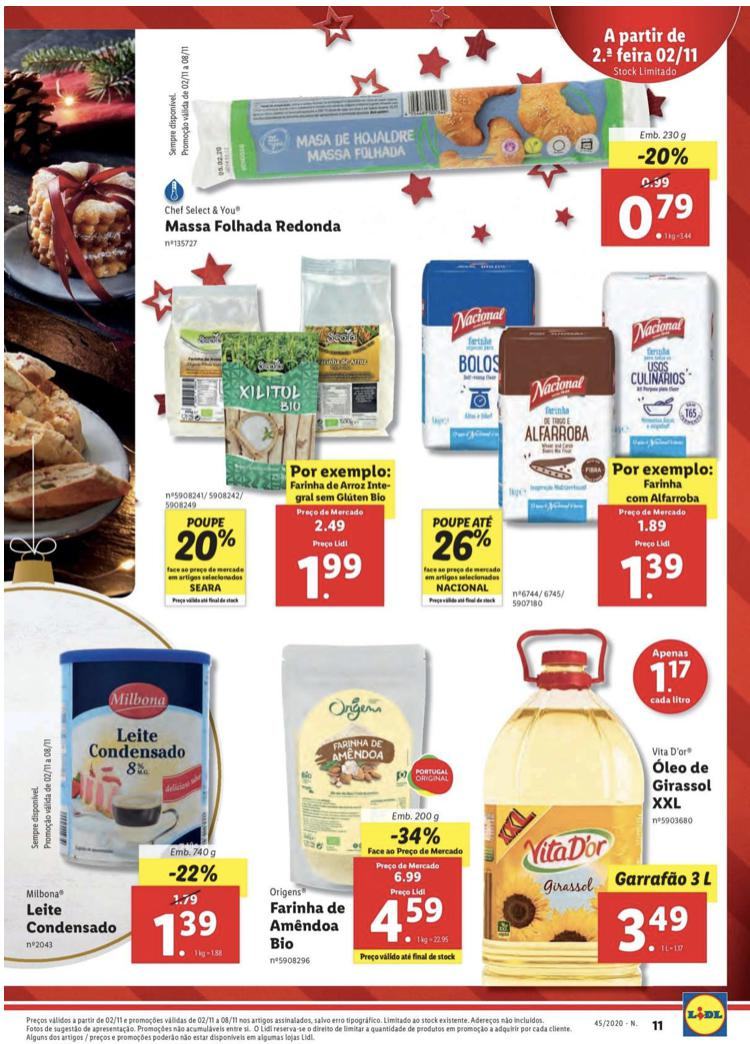name: (264, 900, 351, 952), (165, 217, 347, 241), (650, 756, 716, 813), (20, 900, 121, 935)
price: (362, 891, 449, 950), (616, 192, 697, 247), (613, 902, 691, 958), (295, 553, 372, 601), (154, 911, 225, 962), (620, 552, 686, 604)
product: (410, 245, 730, 615), (150, 62, 712, 260), (145, 252, 410, 615), (468, 623, 725, 989), (17, 624, 256, 965), (258, 624, 472, 990)
promotion: (432, 526, 495, 569), (169, 528, 242, 565), (636, 141, 693, 169), (164, 861, 221, 888), (389, 823, 442, 848)
